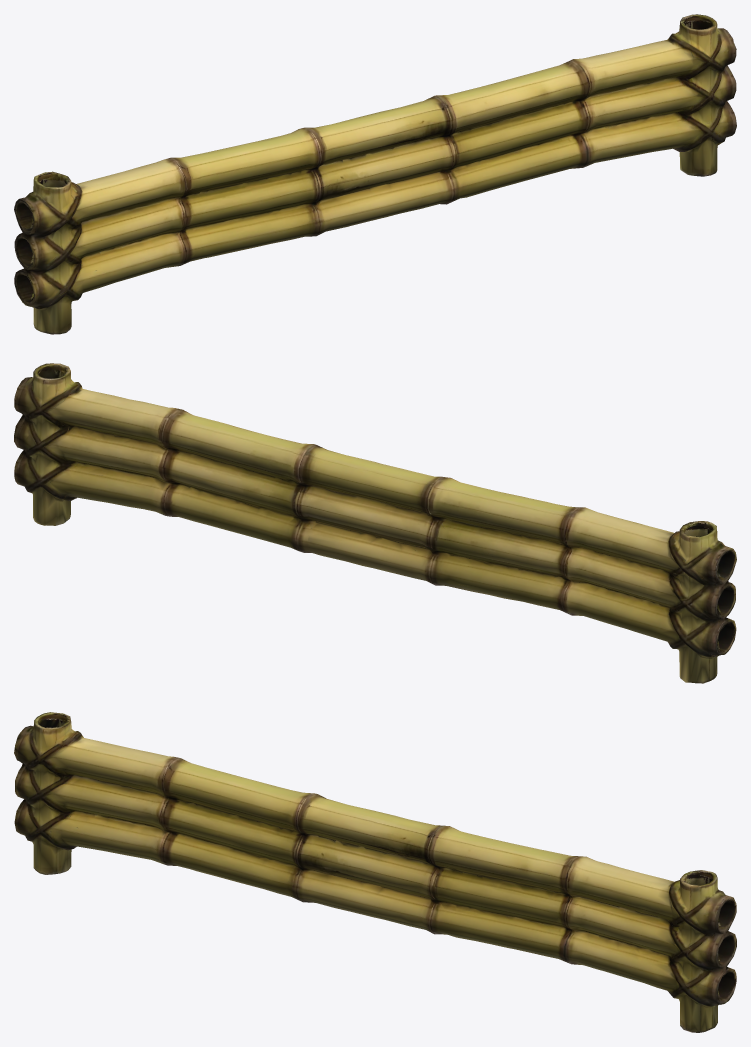
Rendered from bamboo-fence-optimized.glb.
3 views of the same model, one above another, from view 1: azimuth 30°, elevation 25°; view 2: azimuth 150°, elevation 25°; view 3: azimuth 330°, elevation 25° (orthographic).
Visible parts, largest first — view 1: Mesh_0; view 2: Mesh_0; view 3: Mesh_0.
Boxes of the visible parts, x1,y1,x2,y2 form: Mesh_0: (14,14,736,334); Mesh_0: (14,363,736,683); Mesh_0: (14,712,736,1032).
Bounding box in the file's own units: 5 × 0.9997 × 0.3556.
Materials: 1 (1 with a texture image).
